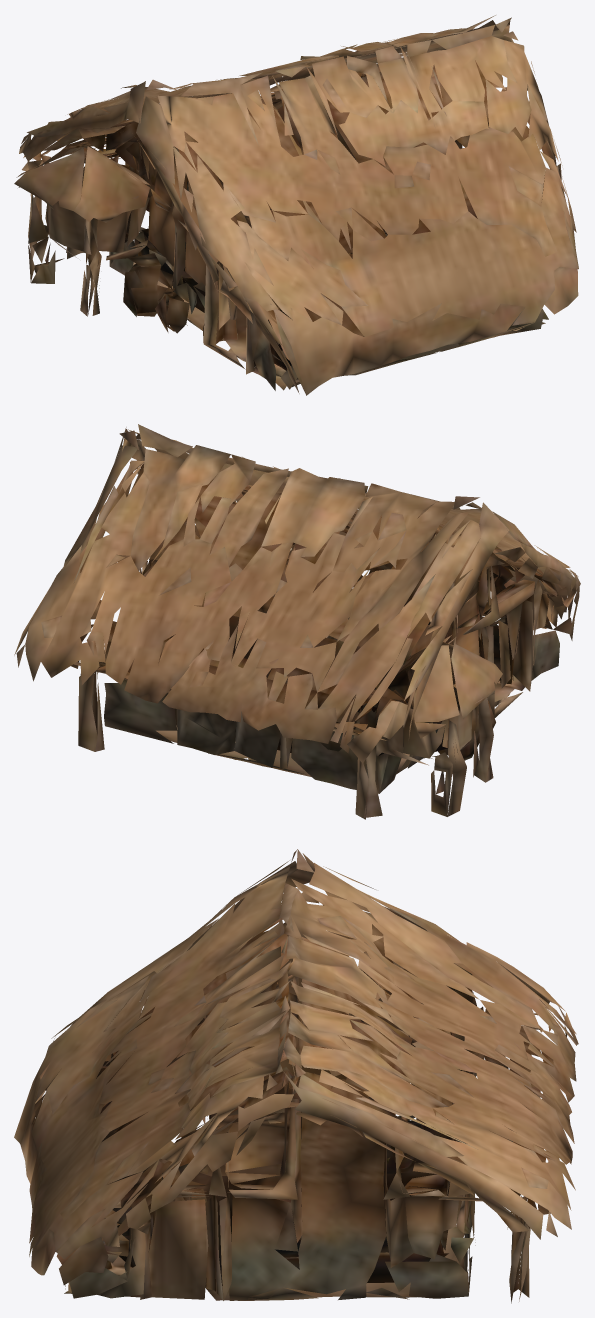
The model's file is farm_far.glb.
3 renders of one model, top to bottom at view 1: azimuth 30°, elevation 25°; view 2: azimuth 150°, elevation 25°; view 3: azimuth 270°, elevation 25°, orthographic. The views are drawn at different scales.
Visible parts, largest first — view 1: model; view 2: model; view 3: model.
Boxes of the visible parts, box(x1,y1,x2,y2) form: model: box(14, 15, 578, 395); model: box(14, 424, 580, 819); model: box(14, 849, 578, 1303).
Size of the model in its own units: 0.9778 by 0.5554 by 0.9833.
1 material, 1 textured.
